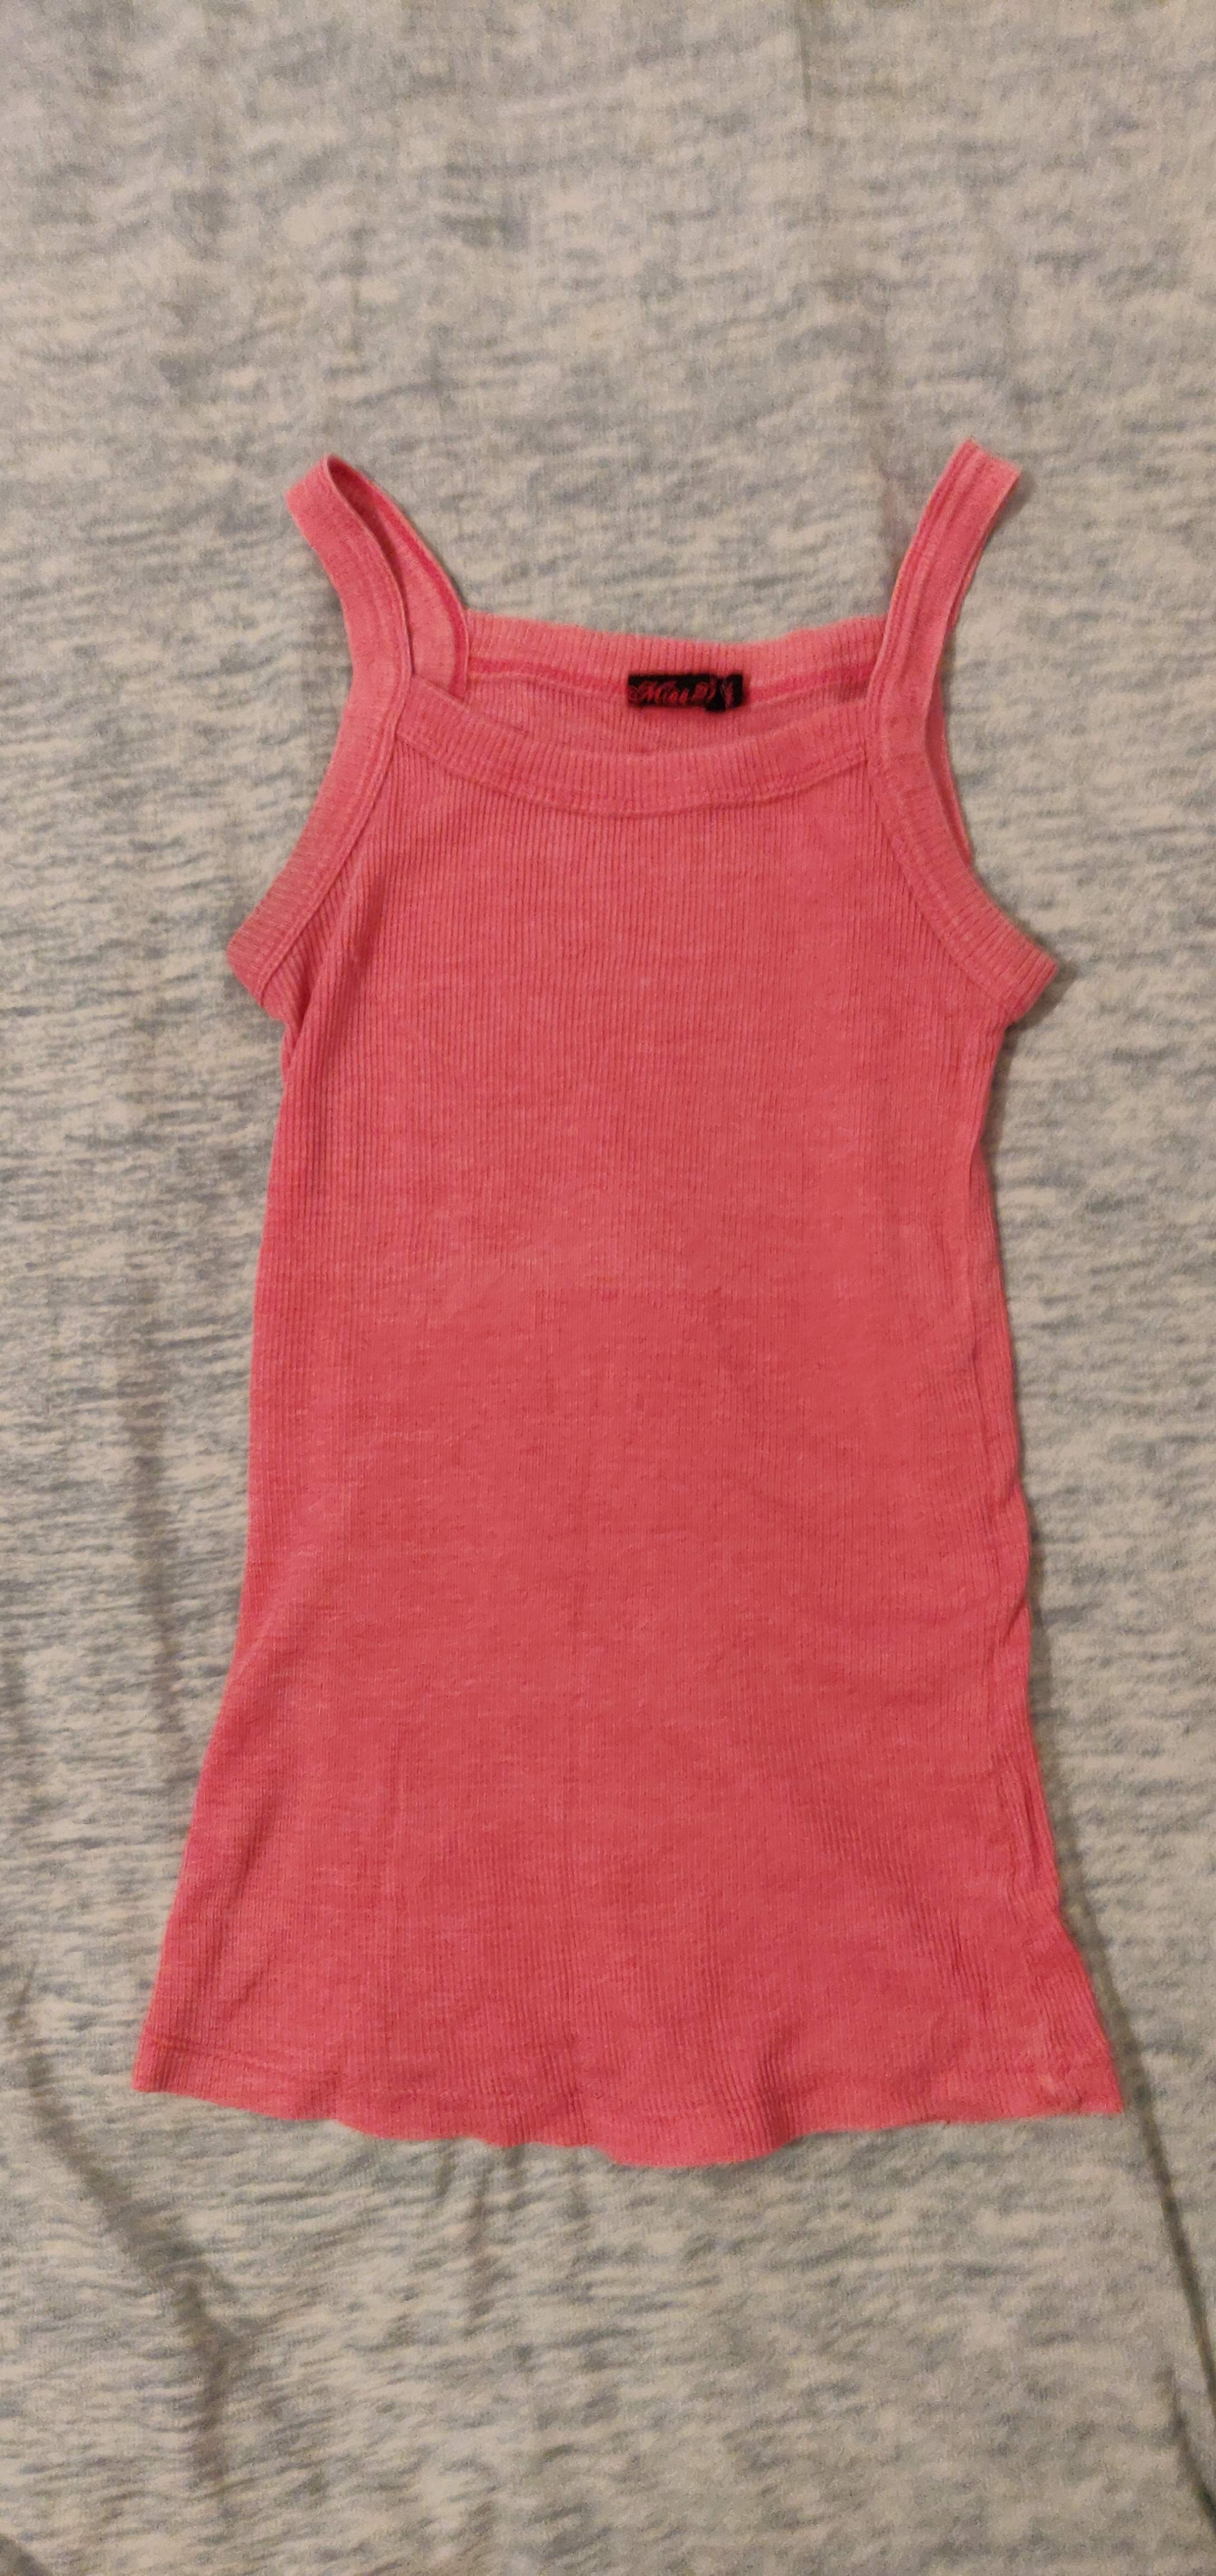clothes: (145, 440, 1154, 2154)
